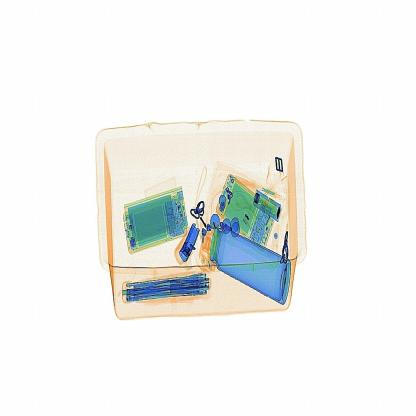pliers: (172, 221, 204, 270)
